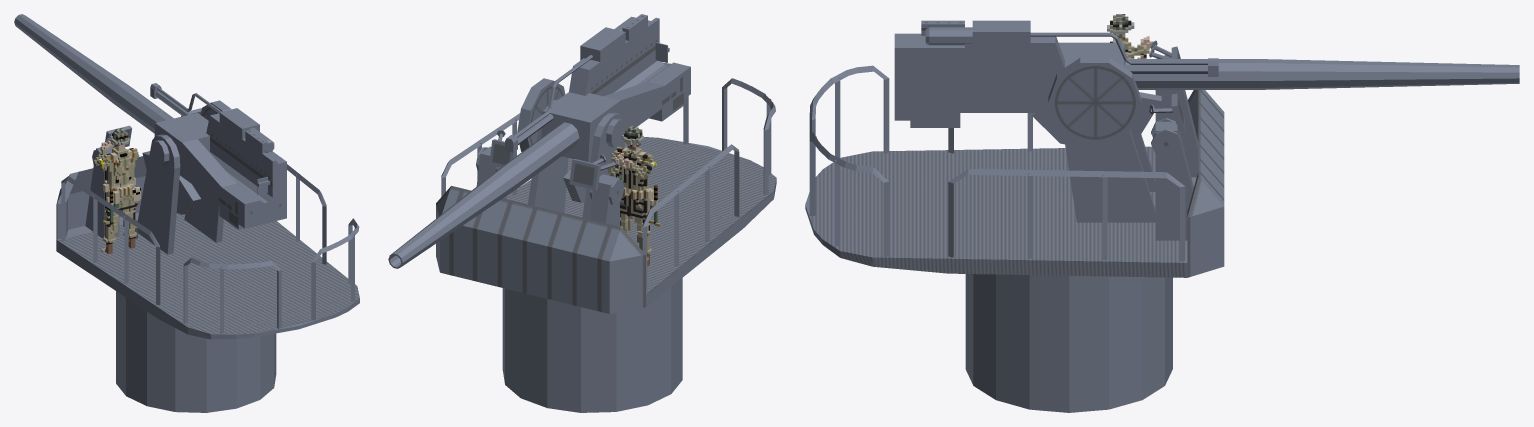
The model's file is 5inch_gun.glb.
3 renders of one model, left to right at view 1: azimuth 30°, elevation 25°; view 2: azimuth 150°, elevation 25°; view 3: azimuth 270°, elevation 25°, orthographic. The views are drawn at different scales.
Visible parts, largest first — view 1: 02_turret_5inch_gun_turret.mesh, 00_chassis_5inch_gun_base.mesh, weapon_turret_0_5inch_gun_gun.mesh, crew_soldier_SLOT_00_GUNNER; view 2: 02_turret_5inch_gun_turret.mesh, 00_chassis_5inch_gun_base.mesh, weapon_turret_0_5inch_gun_gun.mesh, crew_soldier_SLOT_00_GUNNER; view 3: 02_turret_5inch_gun_turret.mesh, 00_chassis_5inch_gun_base.mesh, weapon_turret_0_5inch_gun_gun.mesh, crew_soldier_SLOT_00_GUNNER.
Boxes of the visible parts, x1,y1,x2,y2 form: 02_turret_5inch_gun_turret.mesh: [56, 83, 359, 339]; 00_chassis_5inch_gun_base.mesh: [116, 291, 276, 412]; weapon_turret_0_5inch_gun_gun.mesh: [14, 14, 173, 133]; crew_soldier_SLOT_00_GUNNER: [93, 128, 140, 253]; 02_turret_5inch_gun_turret.mesh: [436, 14, 776, 313]; 00_chassis_5inch_gun_base.mesh: [502, 278, 682, 412]; weapon_turret_0_5inch_gun_gun.mesh: [388, 122, 579, 268]; crew_soldier_SLOT_00_GUNNER: [607, 126, 660, 268]; 02_turret_5inch_gun_turret.mesh: [805, 20, 1224, 277]; 00_chassis_5inch_gun_base.mesh: [965, 274, 1172, 412]; weapon_turret_0_5inch_gun_gun.mesh: [1125, 59, 1519, 89]; crew_soldier_SLOT_00_GUNNER: [1107, 14, 1152, 58].
Size of the model in its own units: 2.84 by 4 by 7.32.
Materials: 36 (1 with a texture image).
